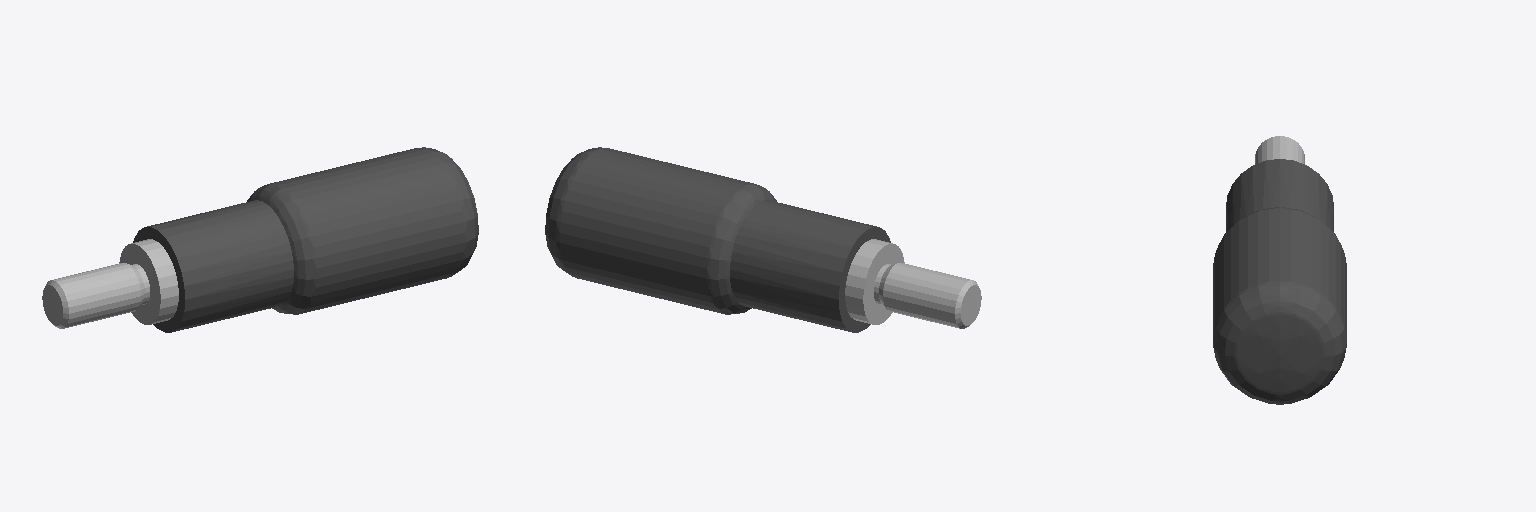
The picture shows the model from 3 angles: view 1: azimuth 30°, elevation 25°; view 2: azimuth 150°, elevation 25°; view 3: azimuth 270°, elevation 25°; orthographic projection.
Parts seen in each view (by area): view 1: gn_798-kt-16-m6_1; view 2: gn_798-kt-16-m6_1; view 3: gn_798-kt-16-m6_1.
Part boxes in pixels (left/top/right/bottom): gn_798-kt-16-m6_1: left=42, top=147, right=478, bottom=332; gn_798-kt-16-m6_1: left=545, top=147, right=981, bottom=332; gn_798-kt-16-m6_1: left=1213, top=136, right=1346, bottom=404.
Bounding box in the file's own units: 56 × 16 × 15.95.